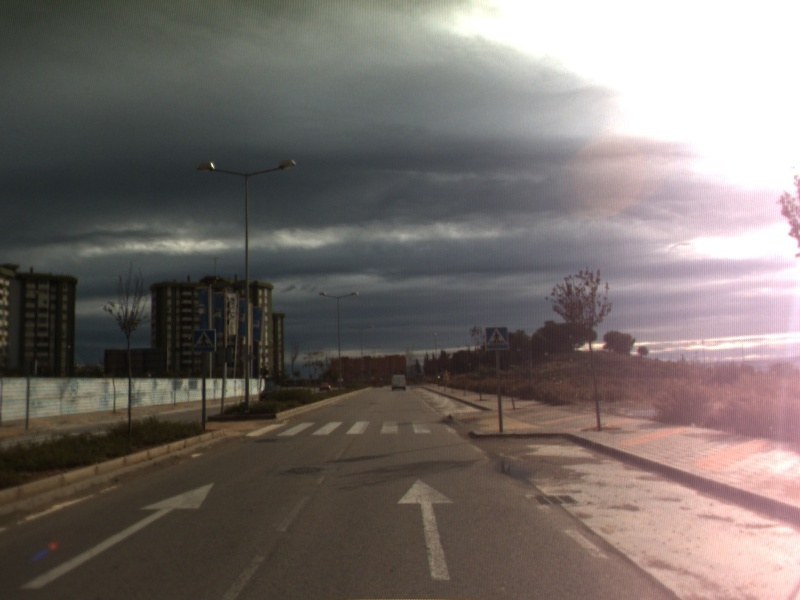STRAIGHT: (18, 481, 217, 591), (395, 476, 458, 582)
